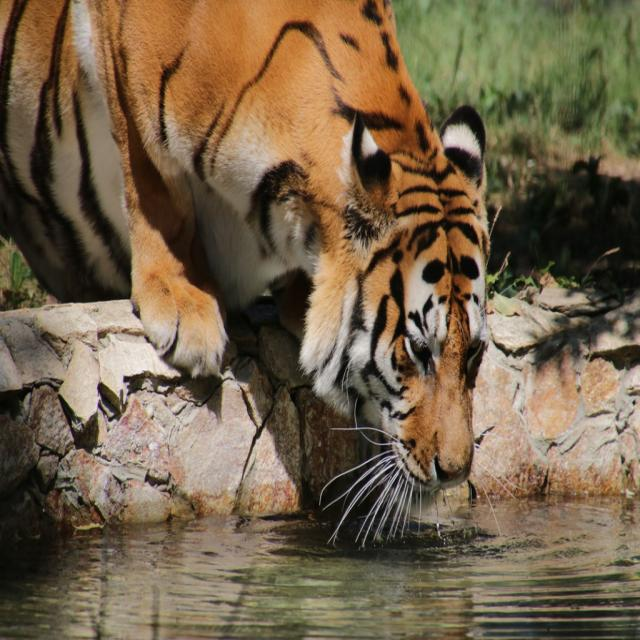Tiger: (0, 0, 528, 552)
